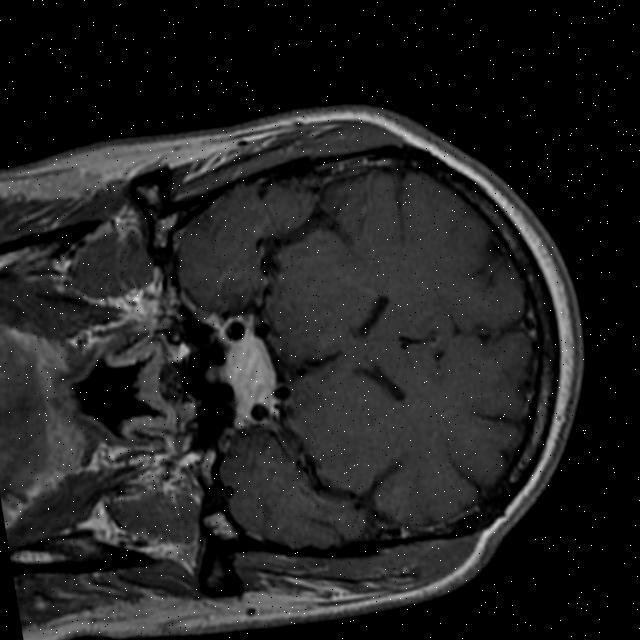Pituitary: (194, 328, 287, 432)
